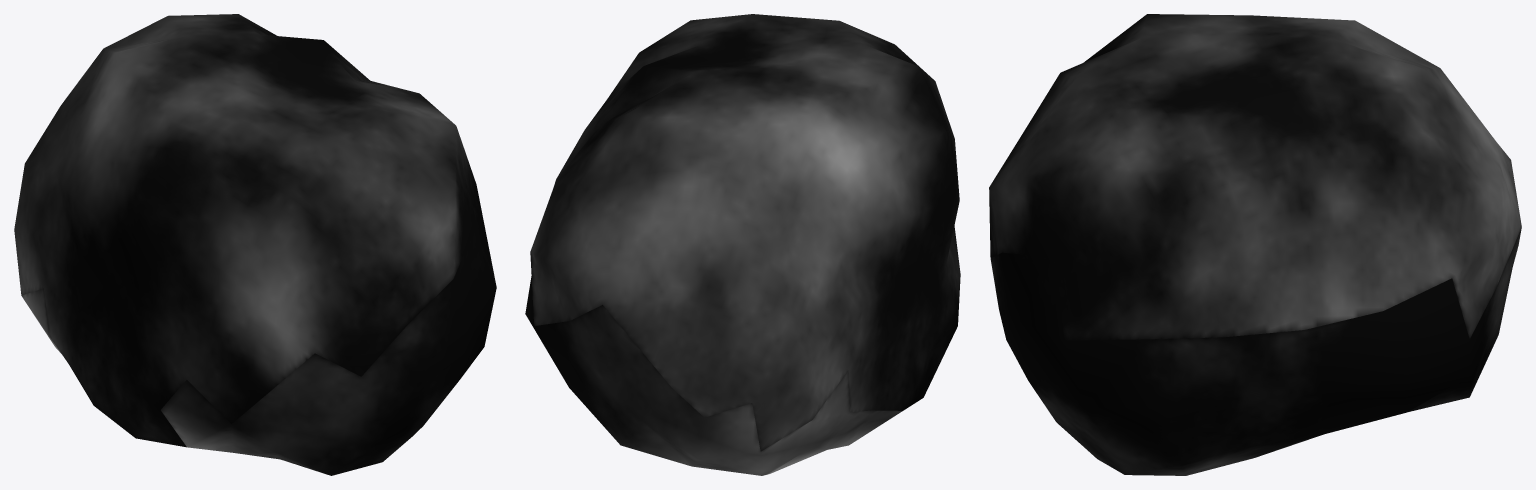
Rendered from SM_rock_small_04.fbx.
3 views of the same model, side by side, from view 1: azimuth 30°, elevation 25°; view 2: azimuth 150°, elevation 25°; view 3: azimuth 270°, elevation 25° (orthographic). The views are drawn at different scales.
Parts seen in each view (by area): view 1: SM_rock_small_04_LOD0; view 2: SM_rock_small_04_LOD0; view 3: SM_rock_small_04_LOD0.
Part boxes in pixels (x1,y1,x2,y2): SM_rock_small_04_LOD0: [14, 14, 496, 475]; SM_rock_small_04_LOD0: [525, 14, 960, 475]; SM_rock_small_04_LOD0: [989, 14, 1521, 475].
Bounding box in the file's own units: 78.4 × 104 × 83.85.
Materials: 1 (1 with a texture image).
